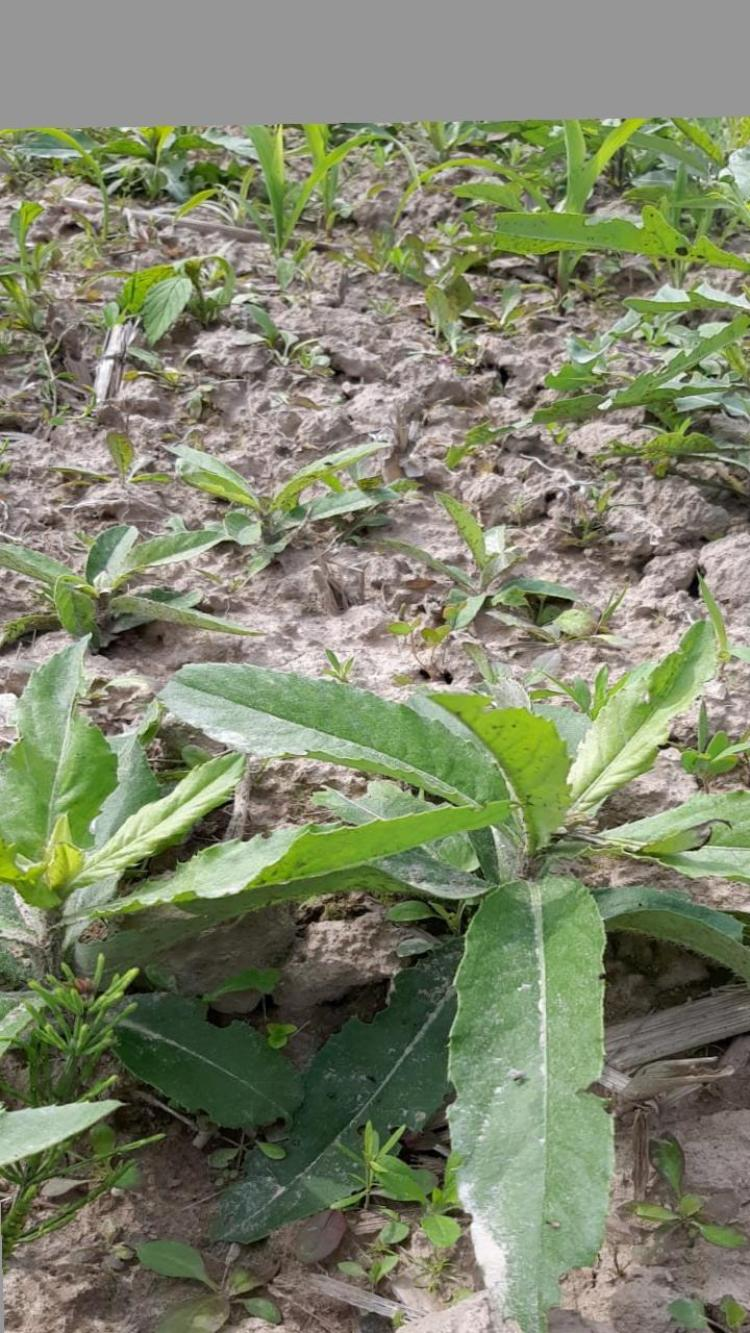osot: (152, 641, 750, 1333)
